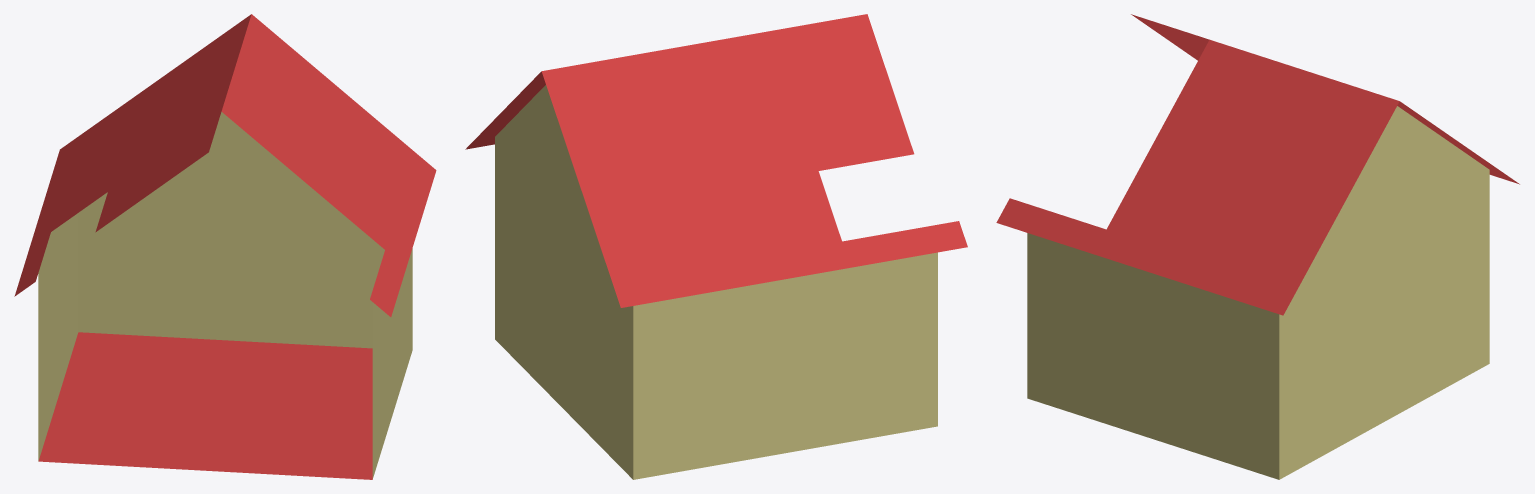
3 renders of one model, left to right at view 1: azimuth 30°, elevation 25°; view 2: azimuth 150°, elevation 25°; view 3: azimuth 270°, elevation 25°, orthographic. The views are drawn at different scales.
Size of the model in its own units: 18.03 by 17.84 by 12.3.
